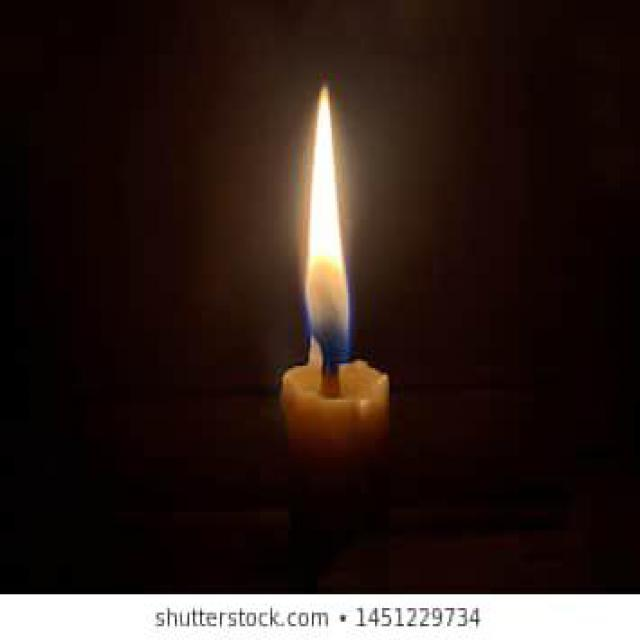Fire: (304, 86, 351, 362)
